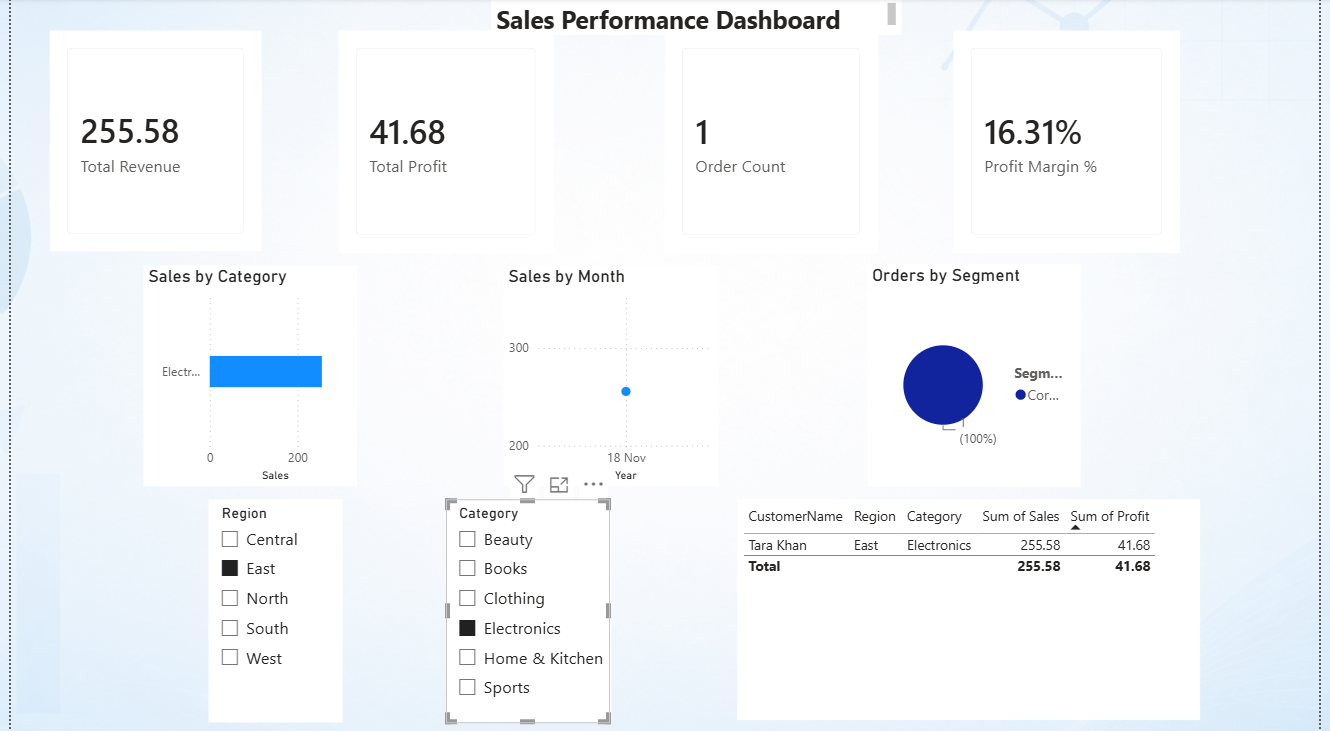

The dashboard page shown, as its layout file describes it:
{"tool":"powerbi","page":{"name":"Page 1","canvas":[1280,720],"ordinal":0},"visuals":[{"type":"cardVisual","fields":{"Data":["Orders.Total Revenue"]},"box":[37.5,31.2,207.5,216.2],"z":0},{"type":"cardVisual","fields":{"Data":["Sum(Orders.Profit)"]},"box":[320,31.2,210,217.5],"z":1000},{"type":"cardVisual","fields":{"Data":["CountNonNull(Orders.OrderID)"]},"box":[640,31.2,208.8,217.5],"z":2000},{"type":"clusteredBarChart","fields":{"Category":["Orders.Category"],"Y":["Sum(Orders.Sales)"]},"box":[130,261.2,208.8,216.2],"z":3000},{"type":"lineChart","title":"Sales by Month","fields":{"Category":["Orders.OrderDate.Variation.Date Hierarchy.Year","Orders.OrderDate.Variation.Date Hierarchy.Quarter","Orders.OrderDate.Variation.Date Hierarchy.Month","Orders.OrderDate.Variation.Date Hierarchy.Day"],"Y":["Sum(Orders.Sales)"]},"box":[481.8,261.7,228.7,215.2],"z":4000},{"type":"pieChart","fields":{"Category":["Customers.Segment"],"Y":["CountNonNull(Orders.OrderID)"]},"box":[804.6,261.7,309.4,216.4],"z":5000},{"type":"tableEx","fields":{"Values":["Customers.CustomerName","Customers.Region","Orders.Category","Sum(Orders.Sales)","Sum(Orders.Profit)"]},"box":[710,490,452.5,216.2],"z":6000},{"type":"slicer","fields":{"Values":["Customers.Region"]},"box":[193.8,490,131.2,218.8],"z":7000},{"type":"slicer","fields":{"Values":["Orders.Category"]},"box":[425,490,161.2,218.8],"z":8000},{"type":"cardVisual","fields":{"Data":["Orders.Profit Margin %"]},"box":[922.5,31.2,221.2,217.5],"z":9000},{"type":"textbox","box":[470,0,401.2,36.2],"z":10000}]}

Visuals, with their boxes in screenshot pixels (x1, y1, x2, y2), scaled from the page's 1280x720 canvas onto the 1330x731 screenshot:
cardVisual - Orders.Total Revenue: x1=39, y1=32, x2=255, y2=251
cardVisual - Sum(Orders.Profit): x1=332, y1=32, x2=551, y2=252
cardVisual - CountNonNull(Orders.OrderID): x1=665, y1=32, x2=882, y2=252
clusteredBarChart - Orders.Category x Sum(Orders.Sales): x1=135, y1=265, x2=352, y2=485
"Sales by Month" lineChart: x1=501, y1=266, x2=738, y2=484
pieChart - Customers.Segment x CountNonNull(Orders.OrderID): x1=836, y1=266, x2=1158, y2=485
tableEx - Customers.CustomerName x Customers.Region: x1=738, y1=497, x2=1208, y2=717
slicer - Customers.Region: x1=201, y1=497, x2=338, y2=720
slicer - Orders.Category: x1=442, y1=497, x2=609, y2=720
cardVisual - Orders.Profit Margin %: x1=959, y1=32, x2=1188, y2=252
textbox: x1=488, y1=0, x2=905, y2=37
